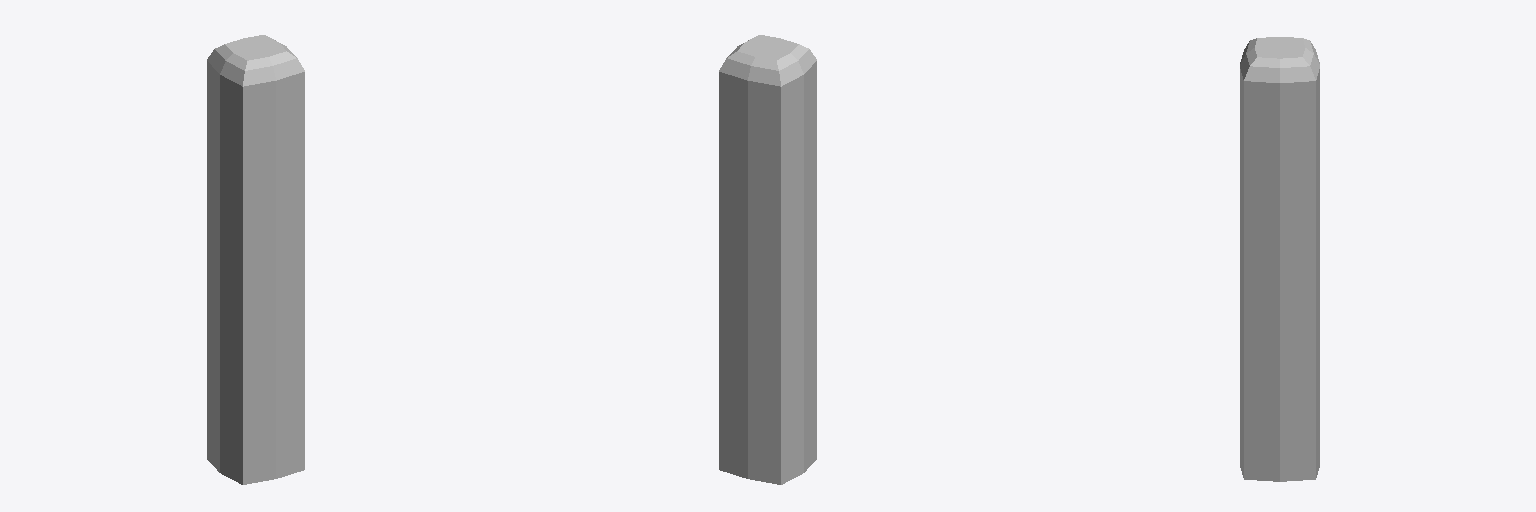
File: palo_valla_low1.obj
3 views of the same model, side by side, from view 1: azimuth 30°, elevation 25°; view 2: azimuth 150°, elevation 25°; view 3: azimuth 270°, elevation 25° (orthographic).
Parts seen in each view (by area): view 1: pCube1; view 2: pCube1; view 3: pCube1.
Boxes of the visible parts, box(x1,y1,x2,y2) form: pCube1: box(207, 35, 304, 484); pCube1: box(719, 35, 816, 484); pCube1: box(1240, 37, 1319, 481).
Size of the model in its own units: 1.15 by 6.36 by 1.12.